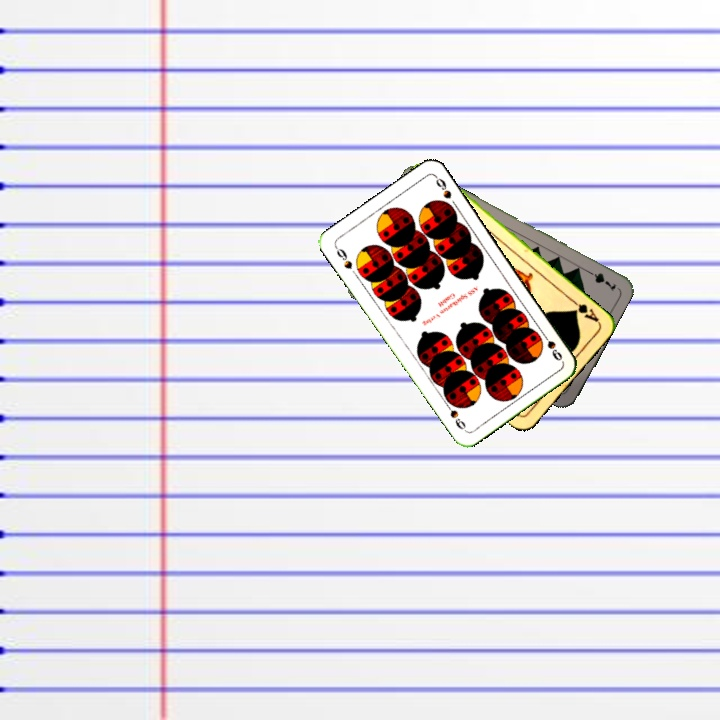G7: (581, 265, 619, 294)
GA: (567, 295, 602, 325)
S9: (537, 328, 565, 364), (331, 242, 355, 272)
